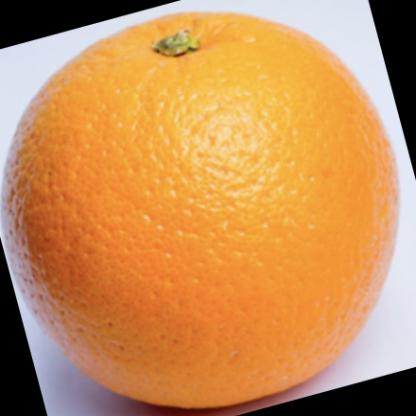fresh: (4, 12, 400, 409)
